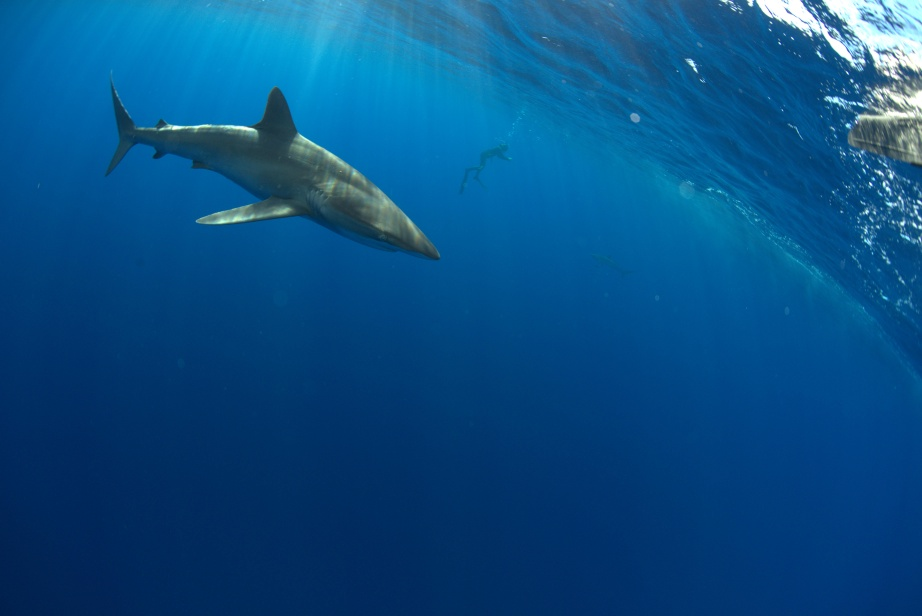Sedoso: (72, 56, 473, 282)
